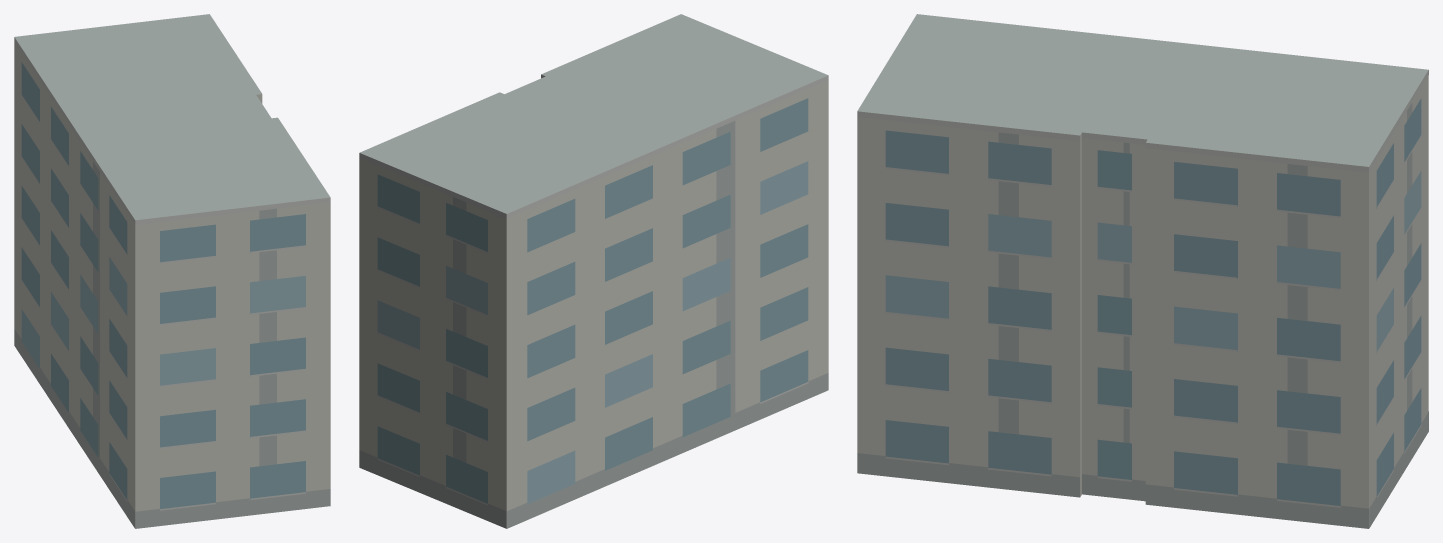
Rendered from survey-upis-32981424.glb.
3 renders of one model, left to right at view 1: azimuth 30°, elevation 25°; view 2: azimuth 150°, elevation 25°; view 3: azimuth 270°, elevation 25°, orthographic. The views are drawn at different scales.
Visible parts, largest first — view 1: survey-upis-32981424.tmp; view 2: survey-upis-32981424.tmp; view 3: survey-upis-32981424.tmp.
Boxes of the visible parts, <box> form: survey-upis-32981424.tmp: <box>14,14,330,528</box>; survey-upis-32981424.tmp: <box>359,14,828,528</box>; survey-upis-32981424.tmp: <box>857,14,1428,528</box>.
Bounding box in the file's own units: 13.96 × 15.4 × 22.05.
